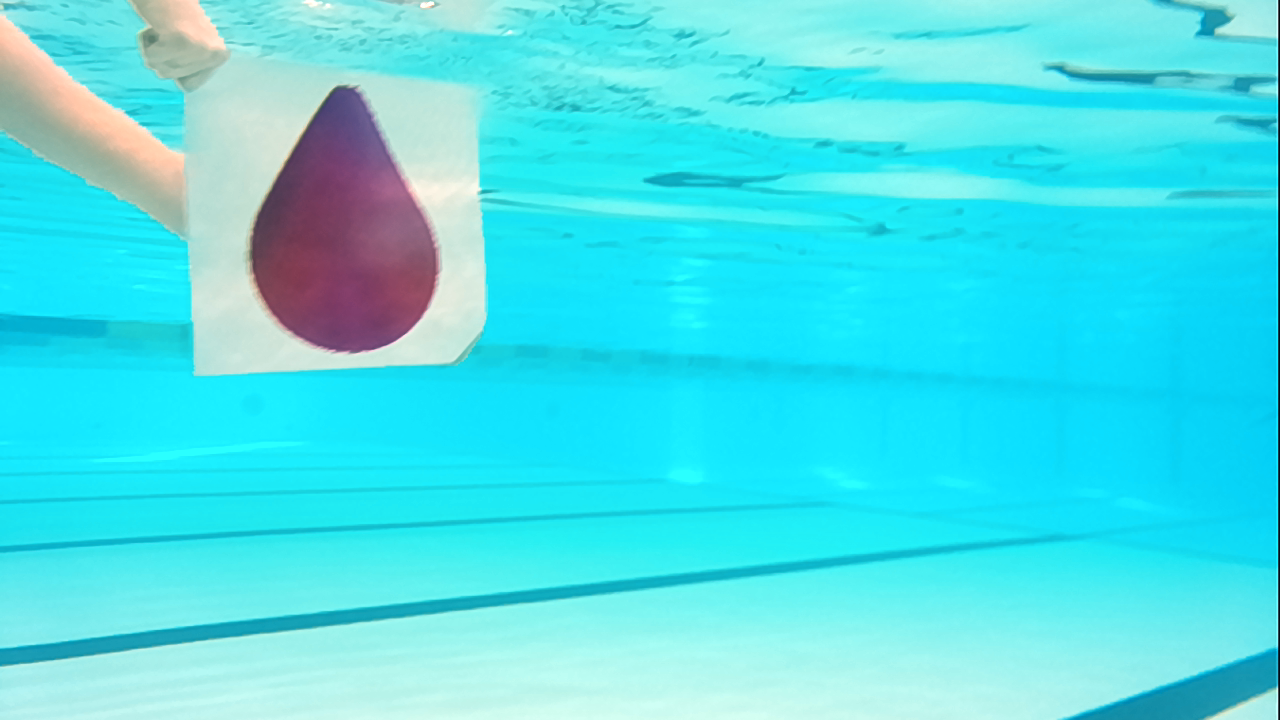blood: (240, 74, 452, 352)
